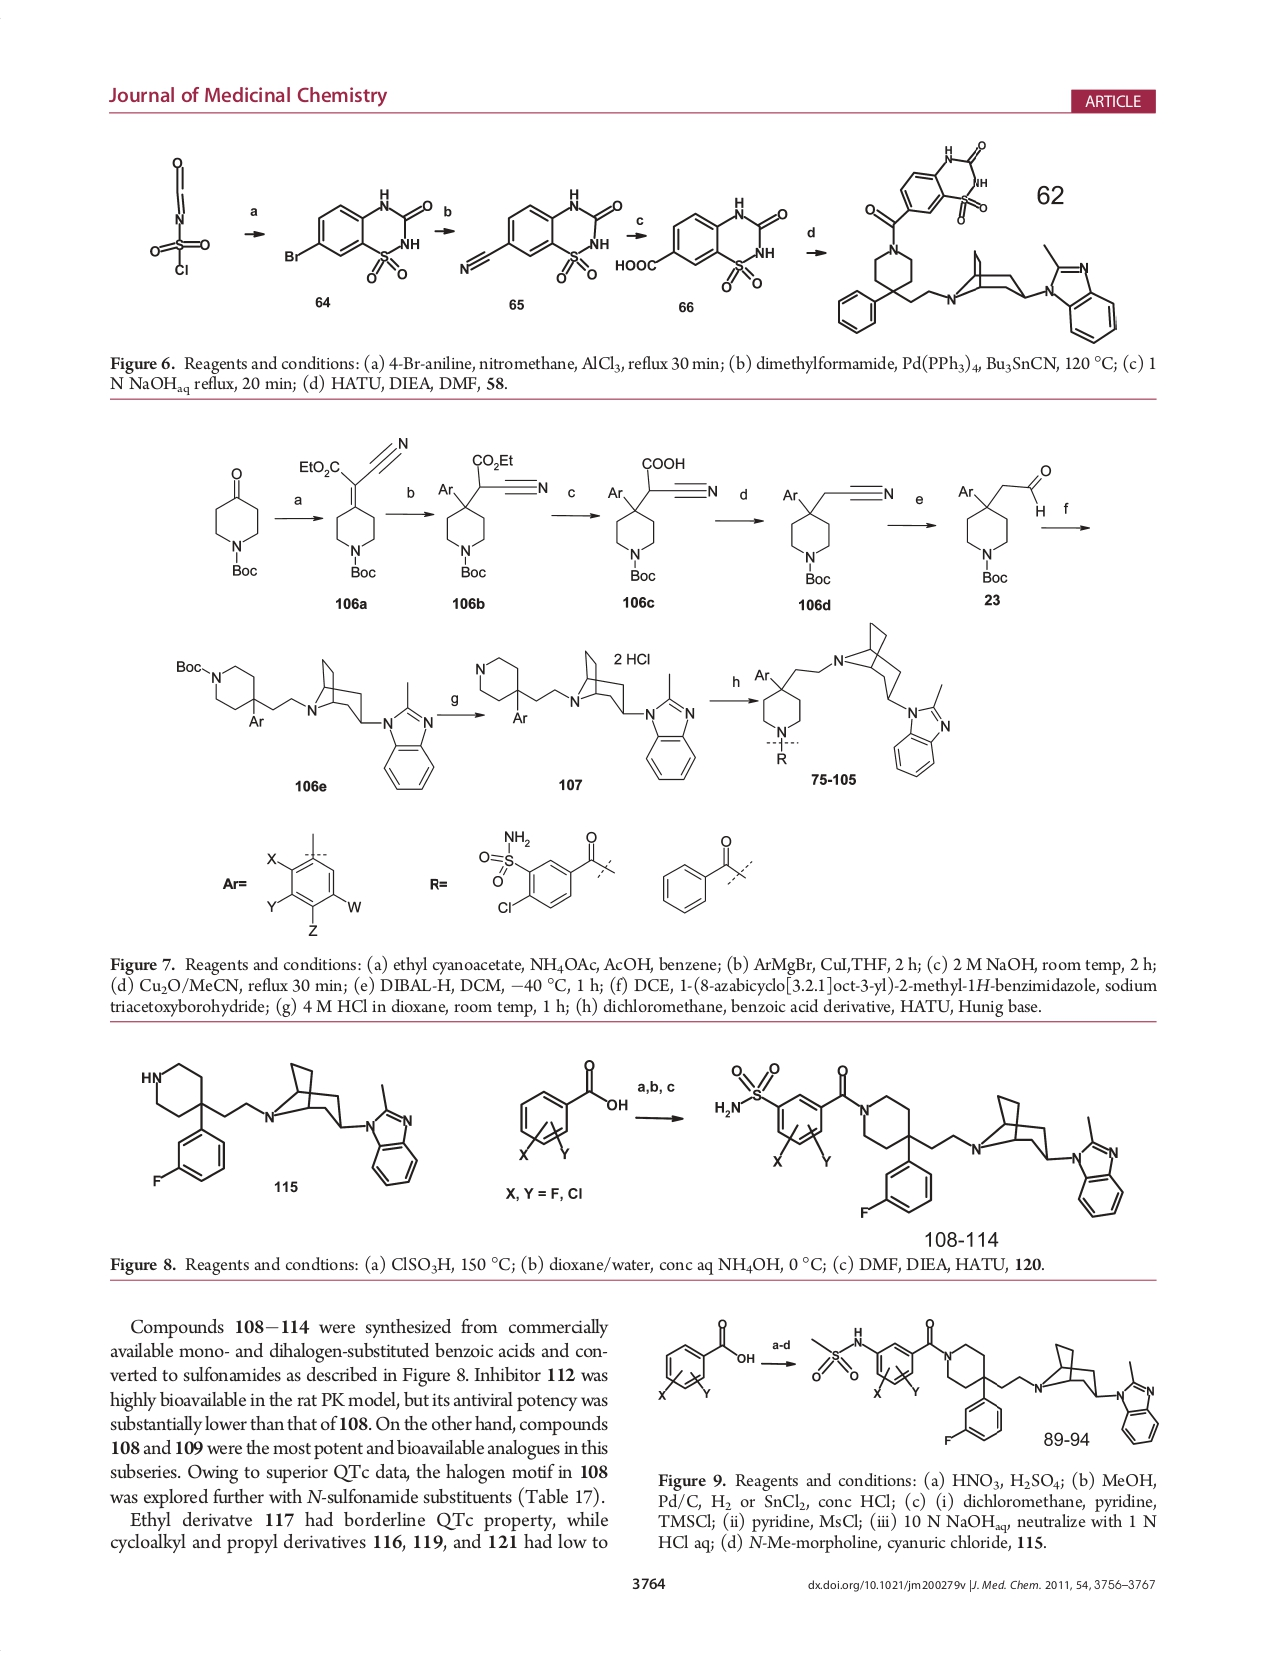exist_molecular: (473, 618, 952, 783), (709, 1059, 1126, 1223), (835, 140, 1120, 344), (807, 1314, 1162, 1446), (137, 1051, 422, 1190), (172, 648, 436, 797), (613, 194, 790, 294), (297, 434, 412, 580), (456, 186, 625, 285), (281, 184, 436, 283), (604, 456, 721, 582), (473, 819, 616, 920), (438, 451, 549, 578), (952, 457, 1056, 586), (509, 1055, 629, 1164), (781, 476, 895, 586), (262, 833, 364, 938), (142, 150, 215, 278), (652, 1317, 757, 1404), (660, 825, 755, 918), (209, 465, 269, 582)
